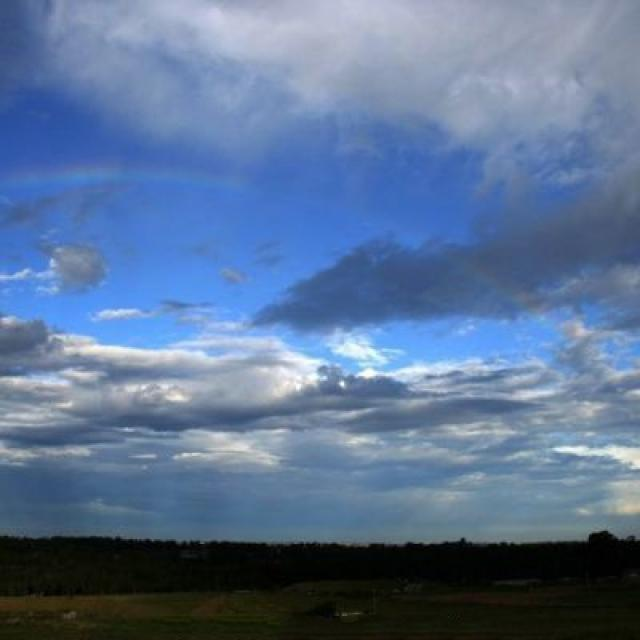Ac: (1, 65, 640, 503)
